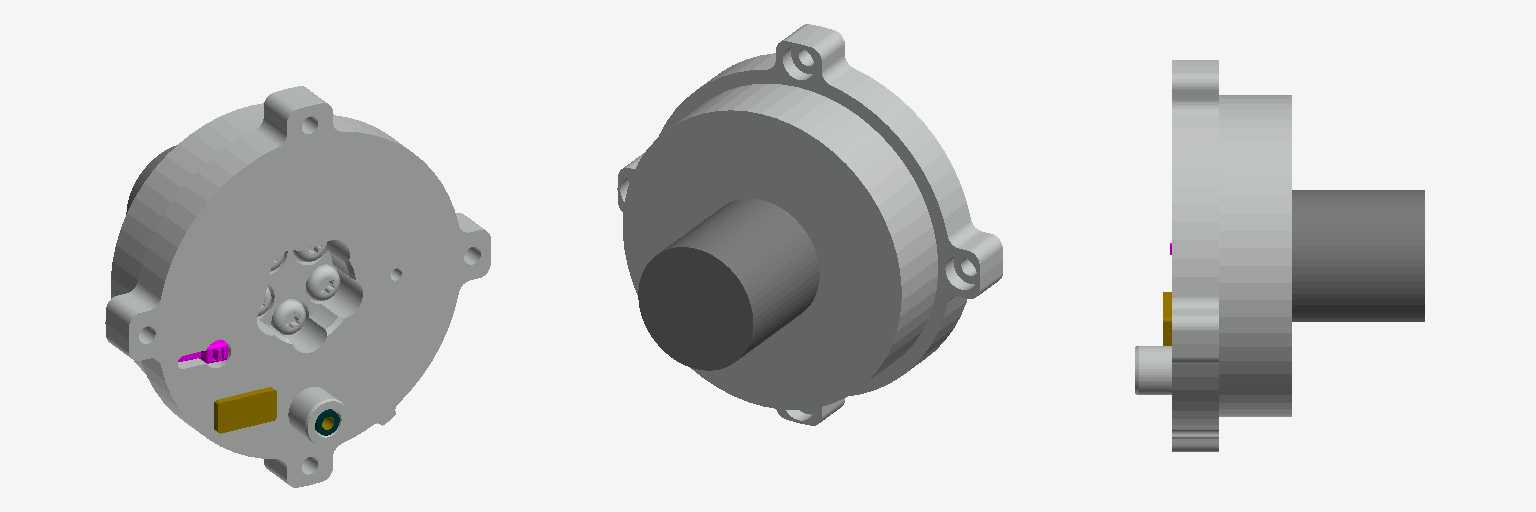
3 views of the same model, side by side, from view 1: azimuth 30°, elevation 25°; view 2: azimuth 150°, elevation 25°; view 3: azimuth 270°, elevation 25° (orthographic).
Parts seen in each view (by area): view 1: mesh10, mesh101, mesh66, mesh37, mesh19, mesh34, mesh9, mesh41, mesh77, mesh7, mesh71, mesh63 (+1 smaller); view 2: mesh102, mesh101, mesh103, mesh104, mesh100, mesh66, mesh77, mesh71, mesh63, mesh69; view 3: mesh101, mesh103, mesh71, mesh55, mesh9, mesh73, mesh70, mesh79, mesh72, mesh80, mesh69.
Boxes of the visible parts, box(x1,y1,x2,y2) form: mesh10: box(129, 103, 490, 487); mesh101: box(111, 103, 333, 373); mesh66: box(138, 130, 277, 297); mesh37: box(259, 250, 332, 325); mesh19: box(218, 390, 276, 433); mesh34: box(310, 267, 362, 317); mesh9: box(288, 387, 337, 439); mesh41: box(284, 300, 326, 352); mesh77: box(141, 359, 203, 435); mesh7: box(308, 401, 348, 444); mesh71: box(333, 115, 409, 150); mesh63: box(105, 310, 128, 351); mesh102: box(623, 110, 901, 409); mesh101: box(669, 84, 937, 386); mesh103: box(660, 198, 819, 360); mesh104: box(638, 247, 752, 370); mesh100: box(617, 41, 979, 425); mesh66: box(831, 69, 970, 235); mesh77: box(905, 296, 966, 373); mesh71: box(697, 53, 775, 89); mesh63: box(980, 248, 1002, 289); mesh69: box(787, 24, 833, 46); mesh101: box(1219, 95, 1291, 416); mesh103: box(1292, 190, 1424, 321); mesh71: box(1172, 116, 1218, 294); mesh55: box(1172, 364, 1218, 428); mesh9: box(1139, 346, 1171, 394); mesh73: box(1172, 331, 1218, 356); mesh70: box(1172, 73, 1218, 89); mesh79: box(1172, 99, 1218, 115); mesh72: box(1172, 315, 1218, 330); mesh80: box(1172, 295, 1218, 309); mesh69: box(1172, 61, 1218, 72).
Bounding box in the file's own units: 0.063 × 0.063 × 0.0435.